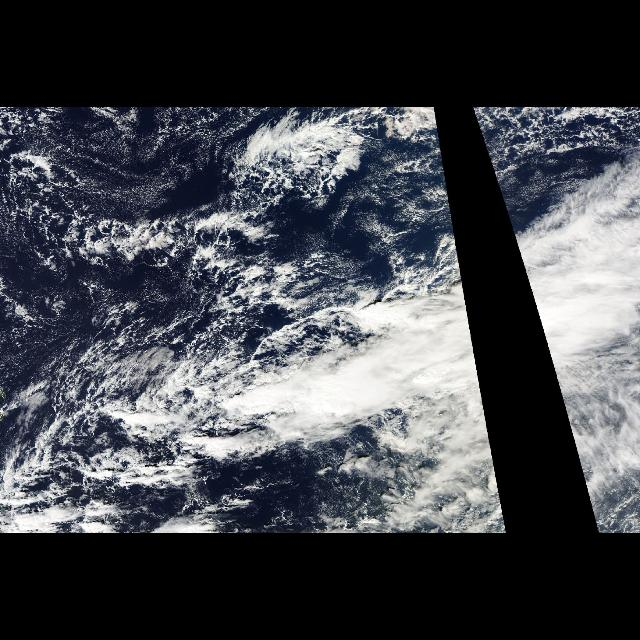Fish: (1, 112, 422, 352)
Sugar: (47, 107, 187, 203)
